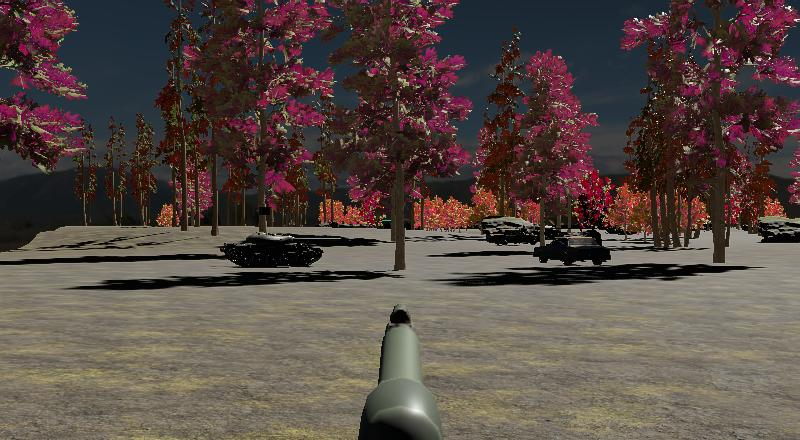Tank: (219, 230, 346, 269)
car: (532, 233, 613, 266)
